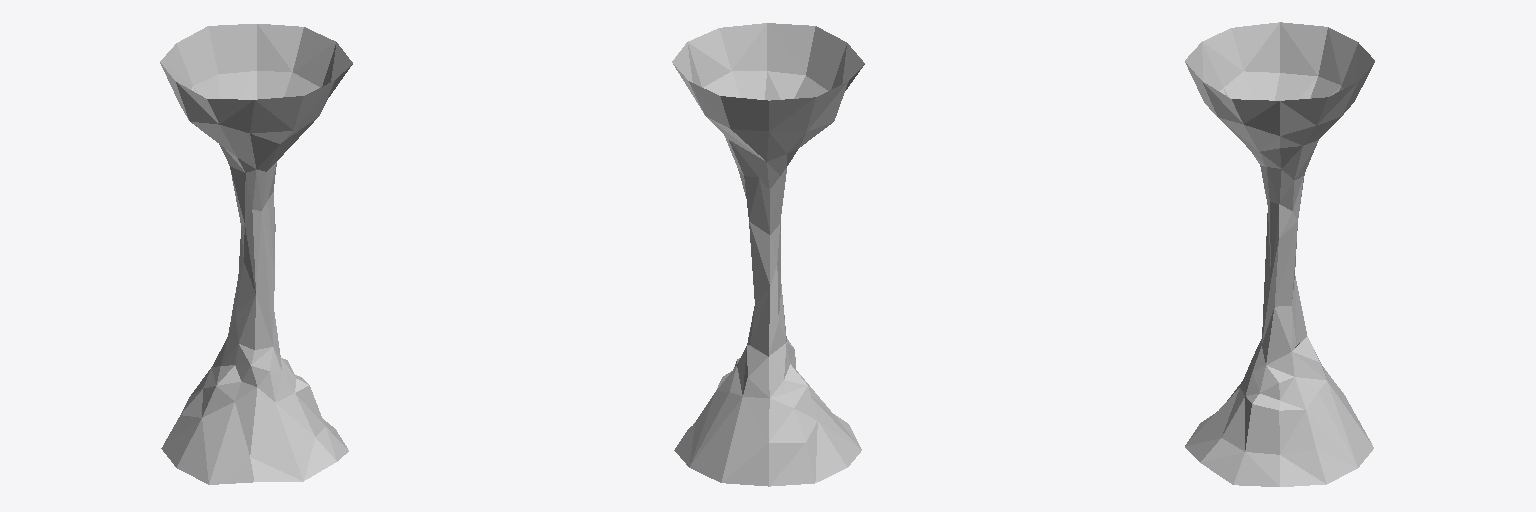
The model's file is Mesh_CavePack_Pillar1_lod1.obj.
The picture shows the model from 3 angles: view 1: azimuth 30°, elevation 25°; view 2: azimuth 150°, elevation 25°; view 3: azimuth 270°, elevation 25°; orthographic projection.
Visible parts, largest first — view 1: Circle_Circle.003; view 2: Circle_Circle.003; view 3: Circle_Circle.003.
Boxes of the visible parts, <box> form: Circle_Circle.003: <box>160,24,352,484</box>; Circle_Circle.003: <box>672,23,864,486</box>; Circle_Circle.003: <box>1185,22,1374,486</box>.
Bounding box in the file's own units: 7.6 × 17.58 × 7.81.